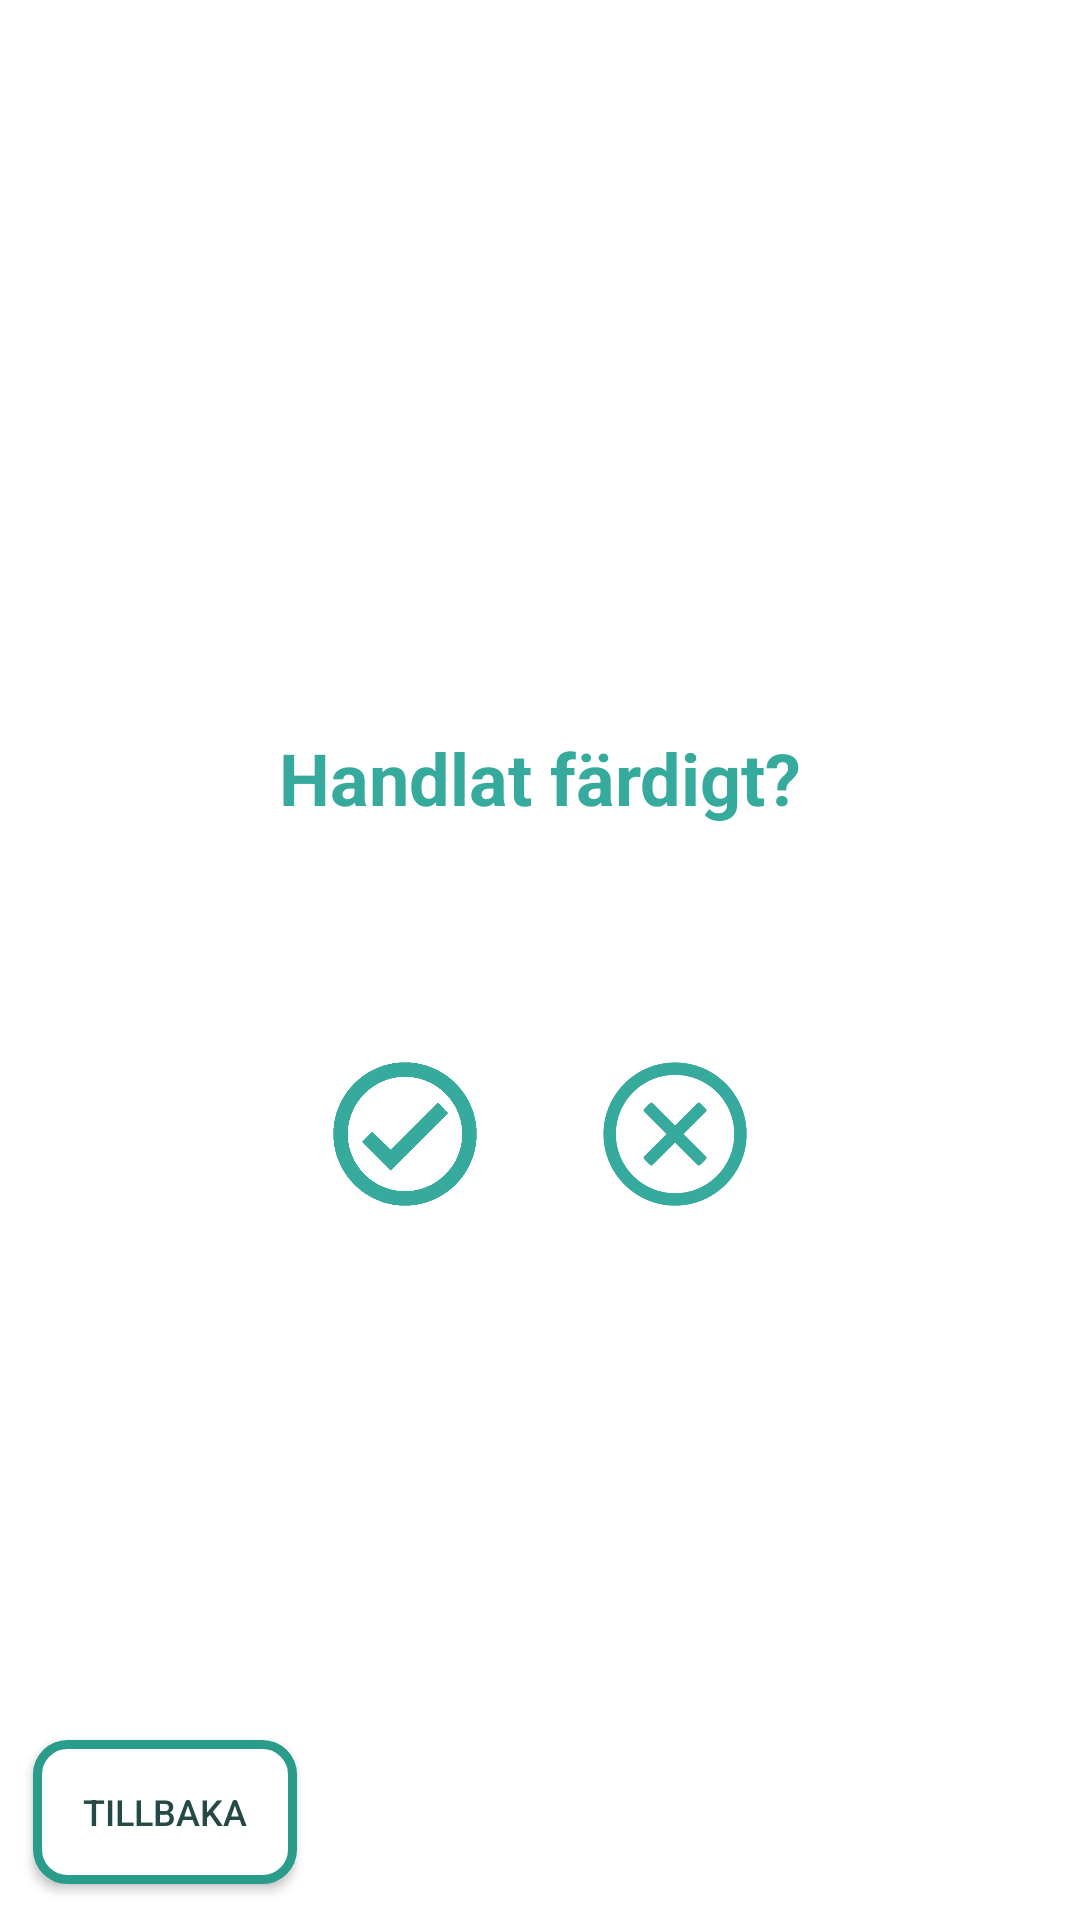

Point at icon controls on the screen. Image size 1080px×1920px, points as (x,y).
check: (405,1134)
cross: (675,1134)
